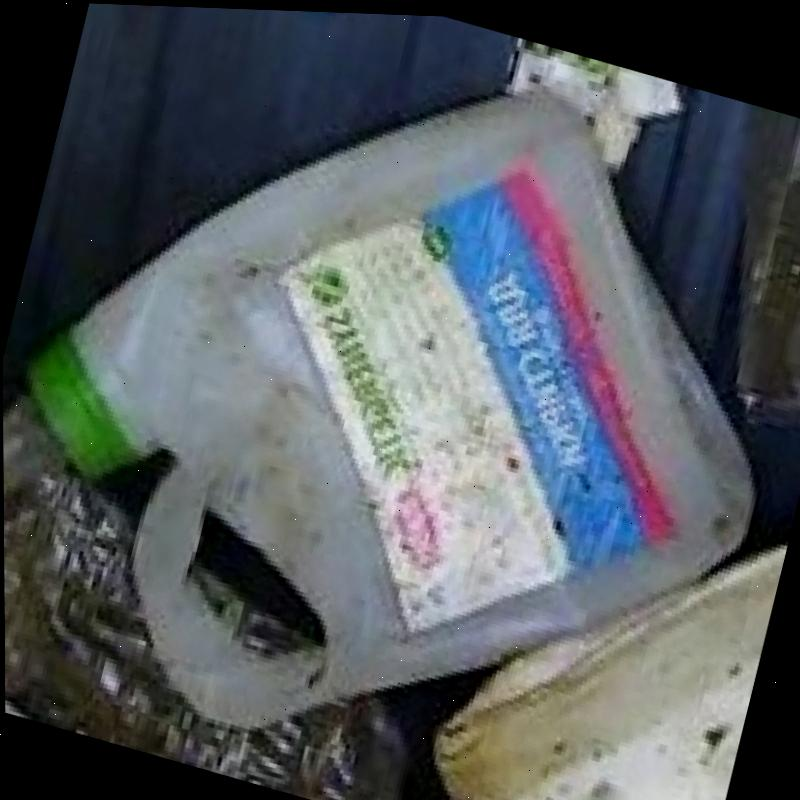botella: (2, 391, 534, 800)
